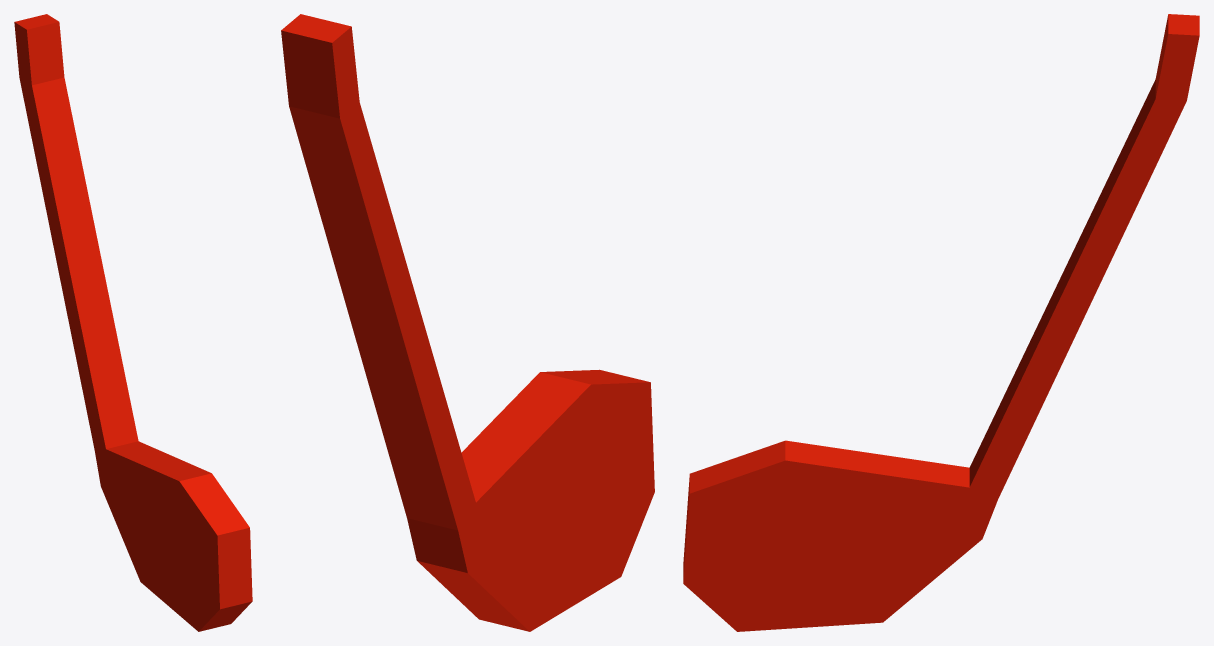
The model's file is WrongNoteSlice1.fbx.
3 views of the same model, side by side, from view 1: azimuth 30°, elevation 25°; view 2: azimuth 150°, elevation 25°; view 3: azimuth 270°, elevation 25° (orthographic). The views are drawn at different scales.
Parts seen in each view (by area): view 1: WrongNoteSlice1; view 2: WrongNoteSlice1; view 3: WrongNoteSlice1.
Part boxes in pixels (<box>): WrongNoteSlice1: <box>14,14,252,631</box>; WrongNoteSlice1: <box>281,14,654,631</box>; WrongNoteSlice1: <box>683,14,1199,631</box>.
Size of the model in its own units: 0.6927 by 9.68 by 7.57.
